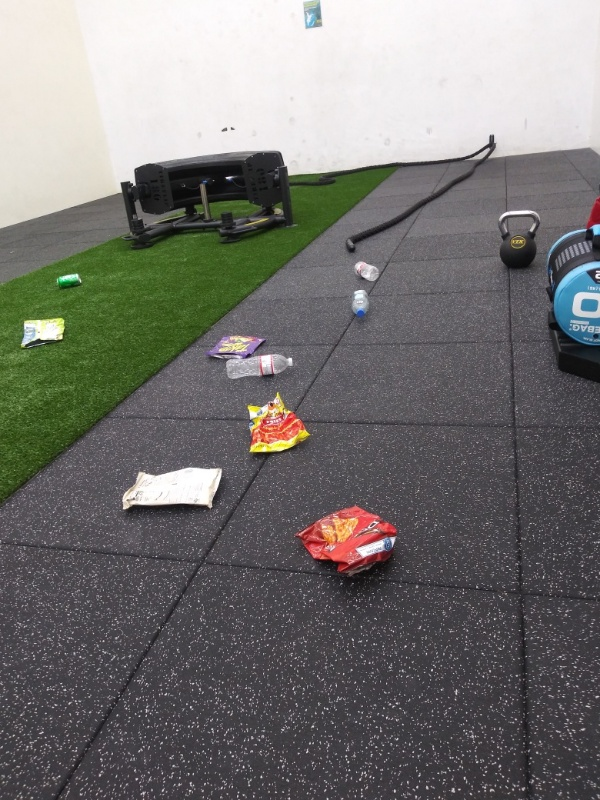bag: (290, 501, 408, 580), (119, 463, 228, 515), (242, 390, 315, 458), (204, 329, 270, 363), (19, 312, 69, 353)
bottle: (222, 350, 296, 382), (346, 287, 371, 325), (349, 259, 383, 284)
can: (52, 267, 86, 291)
